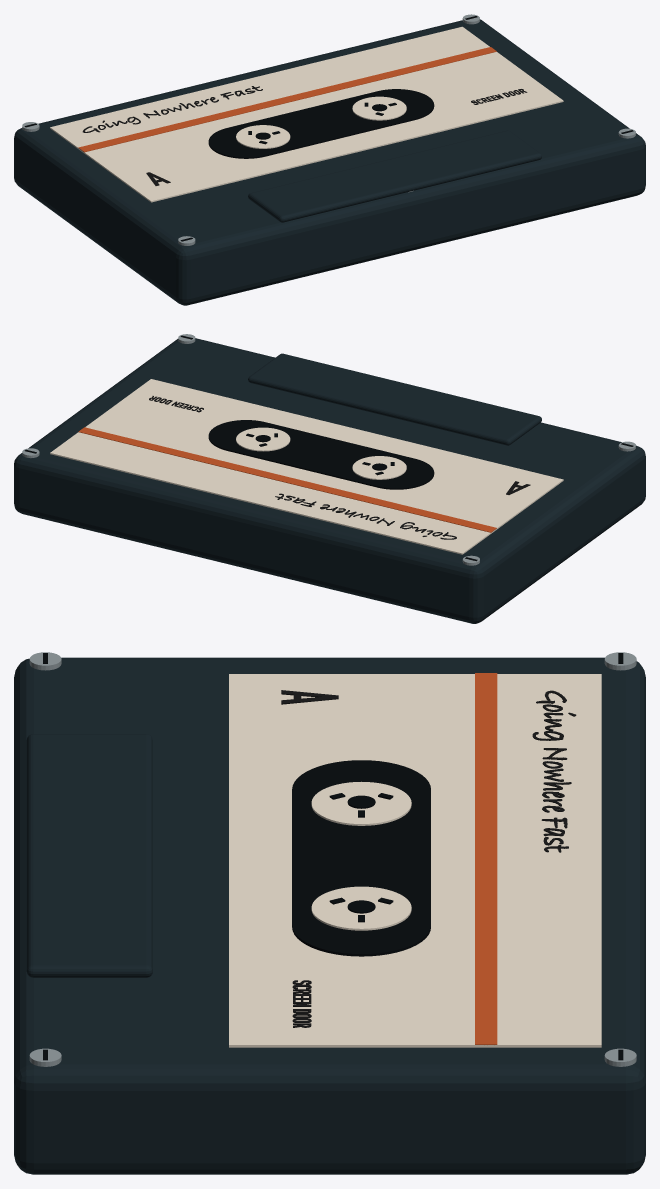
Rendered from cassette.glb.
3 renders of one model, top to bottom at view 1: azimuth 30°, elevation 25°; view 2: azimuth 150°, elevation 25°; view 3: azimuth 270°, elevation 25°, orthographic. The views are drawn at different scales.
Visible parts, largest first — view 1: body, label, head, window, stripe, window_end-1, window_end1, reel1, reel0, title; view 2: body, label, head, window, stripe, window_end1, reel1, reel0, window_end-1, title; view 3: body, label, head, window, stripe, window_end1, reel1, reel0, window_end-1, title, band.
Boxes of the visible parts, x1,y1,x2,y2 form: body: [14, 19, 645, 305]; label: [50, 26, 563, 202]; head: [248, 130, 541, 222]; window: [228, 92, 415, 156]; stripe: [78, 47, 496, 152]; window_end-1: [208, 125, 282, 158]; window_end1: [361, 89, 434, 120]; reel1: [352, 96, 406, 120]; reel0: [236, 125, 290, 148]; title: [82, 86, 262, 132]; body: [14, 338, 645, 623]; label: [50, 379, 563, 554]; head: [248, 353, 541, 445]; window: [227, 422, 414, 487]; stripe: [78, 427, 496, 532]; window_end1: [208, 420, 280, 451]; reel1: [236, 427, 290, 451]; reel0: [352, 456, 406, 479]; window_end-1: [360, 456, 434, 489]; title: [275, 493, 456, 539]; body: [14, 657, 645, 1174]; label: [229, 674, 601, 1047]; head: [26, 734, 152, 977]; window: [292, 790, 430, 924]; stripe: [475, 673, 497, 1044]; window_end1: [292, 904, 430, 956]; reel1: [311, 886, 411, 930]; reel0: [311, 781, 411, 825]; window_end-1: [292, 760, 430, 810]; title: [532, 690, 576, 852]; band: [292, 980, 311, 1027].
Bounding box in the file's own units: 0.3 × 0.04 × 0.19.
